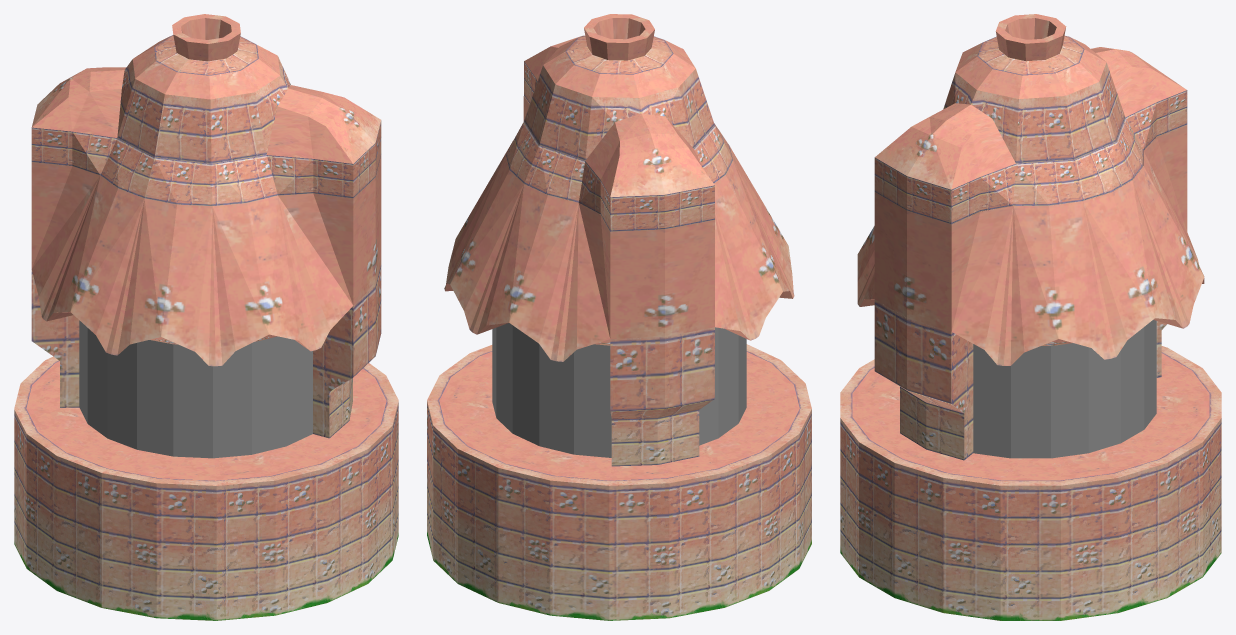
Rendered from sandeggnormal.dae.
3 renders of one model, left to right at view 1: azimuth 30°, elevation 25°; view 2: azimuth 150°, elevation 25°; view 3: azimuth 270°, elevation 25°, orthographic.
Visible parts, largest first — view 1: m1, m2; view 2: m1, m2; view 3: m1, m2.
Boxes of the visible parts, box(x1,y1,x2,y2) form: m1: box(14, 14, 398, 620); m2: box(79, 320, 312, 458); m1: box(427, 14, 811, 620); m2: box(492, 323, 746, 457); m1: box(840, 14, 1221, 620); m2: box(973, 320, 1156, 458).
Size of the model in its own units: 2554 by 3782 by 2554.
3 materials, 3 textured.
